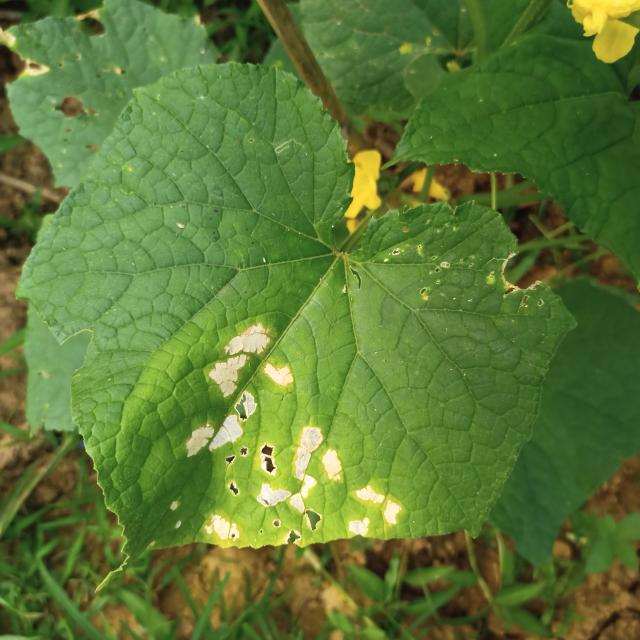disease_cucumber: (170, 318, 406, 553)
